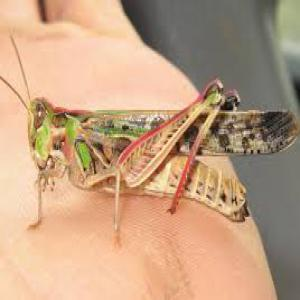locust: (12, 55, 291, 223)
